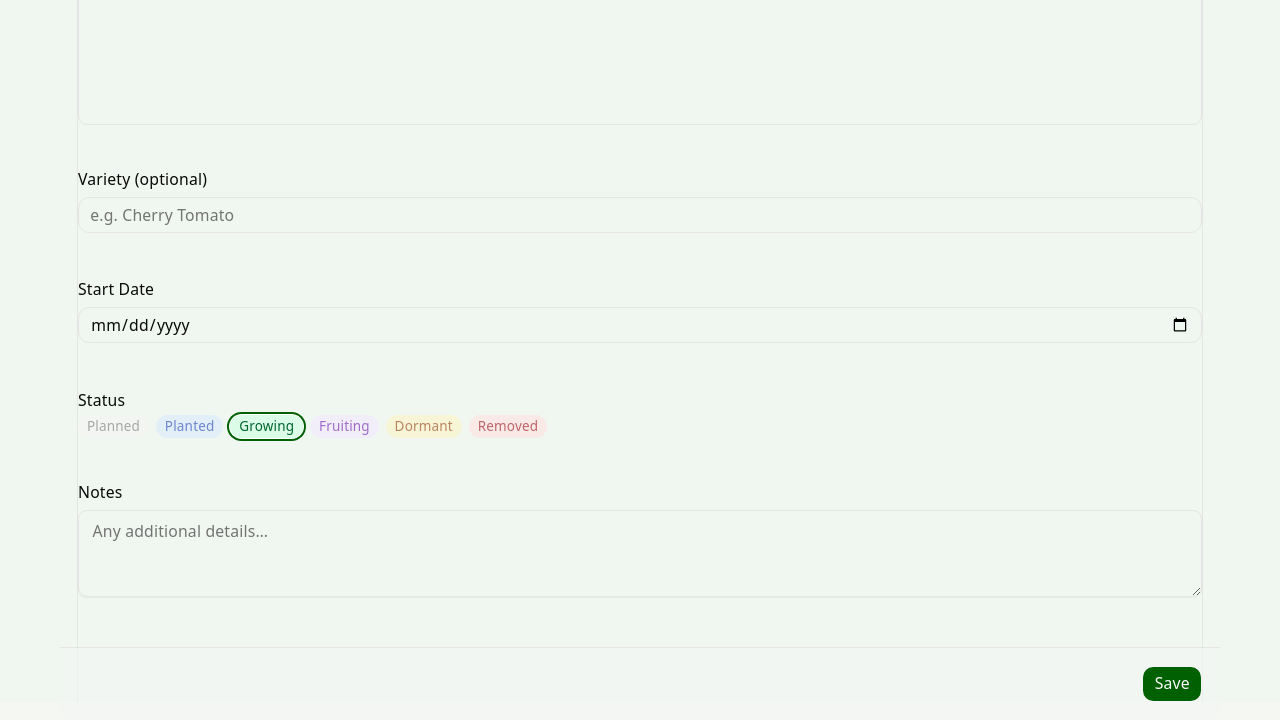
Scenario: UserPlantEditForm › shows "Saving…" while the mutation is in flight
(page scrolled)
Click the button "Save".
click(1172, 684)  # box [1142, 666, 1202, 702]
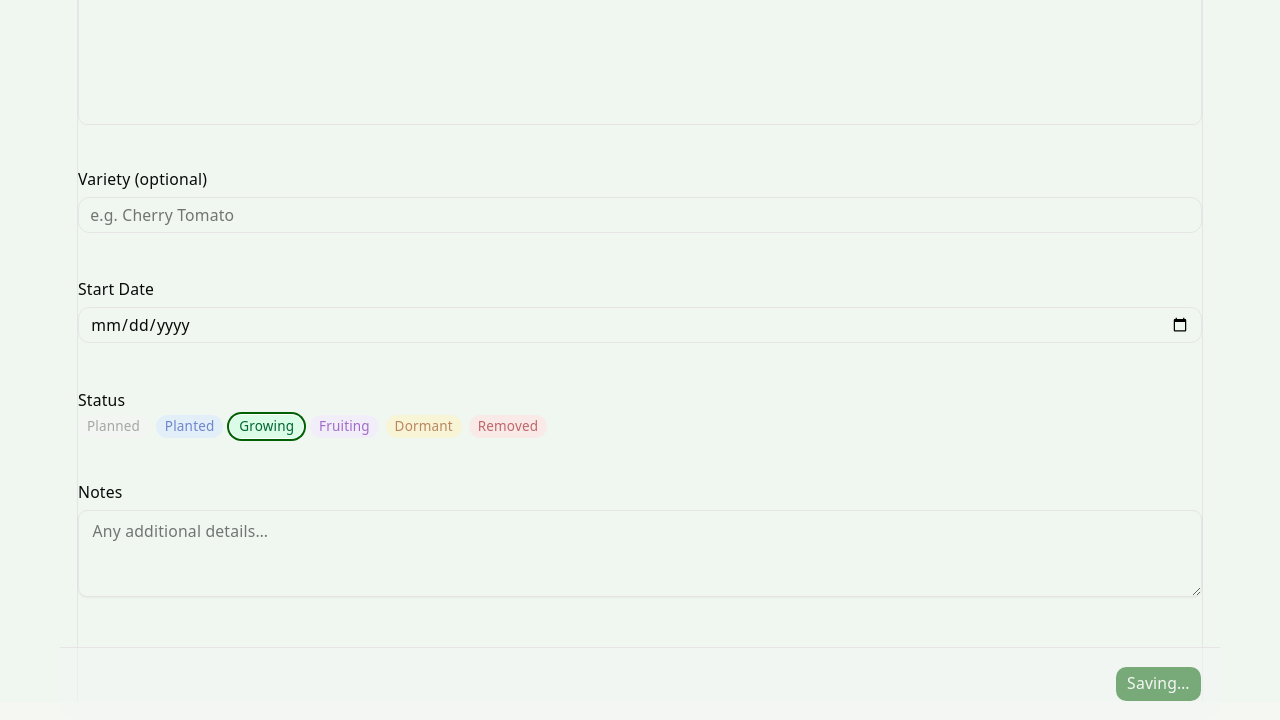
Now the button "Saving…" is shown, box [1115, 666, 1202, 702]
